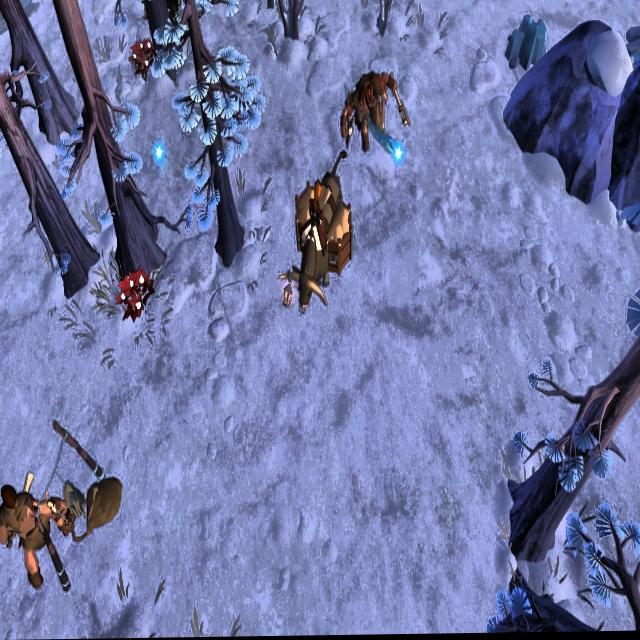enemy_factionKeeper: (0, 461, 64, 593), (337, 60, 408, 164)
fiber_t5: (119, 268, 154, 321), (130, 39, 156, 81)
rock_t4: (504, 10, 546, 79)
